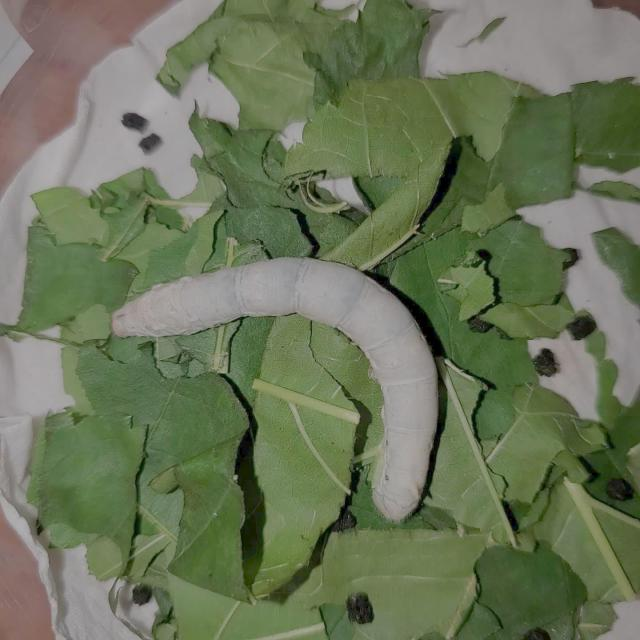Healthy: (100, 238, 444, 536)
